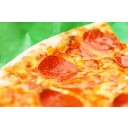pepperonipizza: (1, 20, 128, 105)
